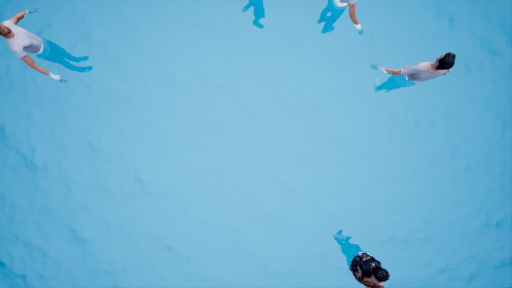person: (1, 10, 106, 89), (369, 46, 456, 100), (325, 226, 401, 287)
